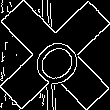O_NE: (22, 22, 88, 88)
